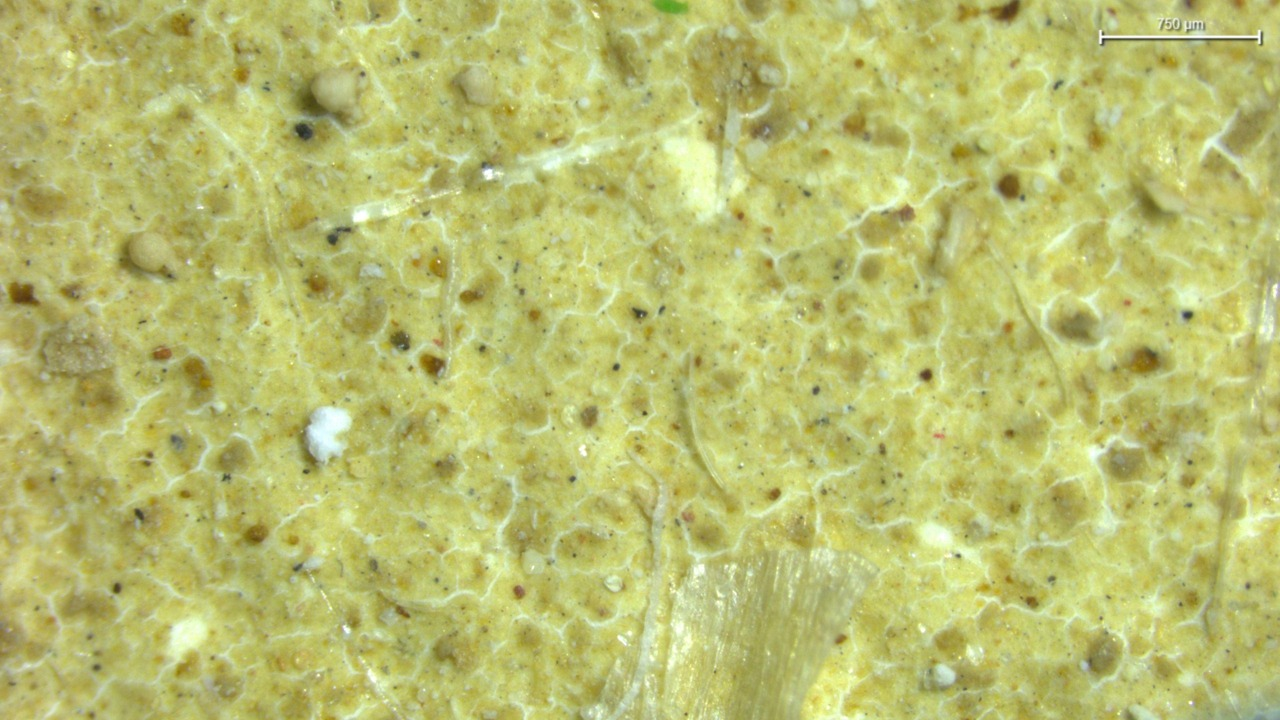microplastic_fragment: (310, 65, 367, 121), (305, 406, 351, 464)
